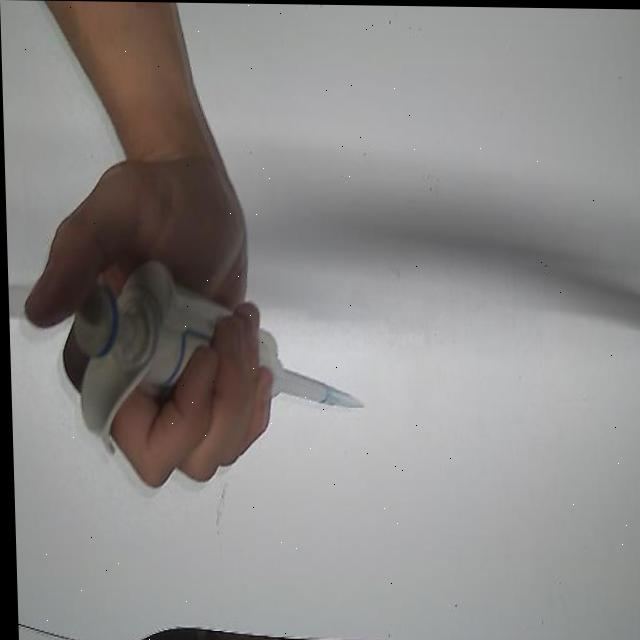Single Channel Pipettor: (56, 248, 337, 461)
